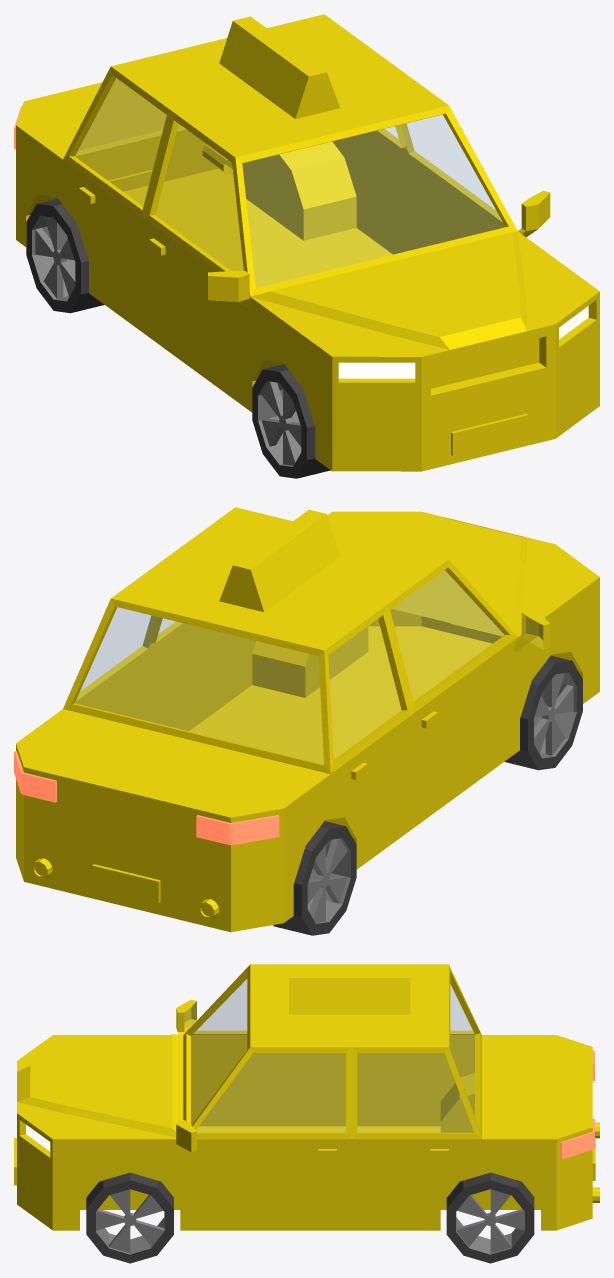
The model's file is taxi.glb.
3 renders of one model, top to bottom at view 1: azimuth 30°, elevation 25°; view 2: azimuth 150°, elevation 25°; view 3: azimuth 270°, elevation 25°, orthographic. The views are drawn at different scales.
Visible parts, largest first — view 1: Taxi, Taxi wheel front right, Taxi wheel rear right; view 2: Taxi, Taxi wheel rear right, Taxi wheel front right; view 3: Taxi, Taxi wheel rear left, Taxi wheel front left.
Part boxes in pixels (left/top/right/bottom): Taxi: left=14, top=14, right=599, bottom=471; Taxi wheel front right: left=252, top=364, right=330, bottom=478; Taxi wheel rear right: left=26, top=198, right=104, bottom=313; Taxi: left=14, top=507, right=599, bottom=932; Taxi wheel rear right: left=273, top=821, right=356, bottom=935; Taxi wheel front right: left=504, top=655, right=582, bottom=770; Taxi: left=14, top=964, right=599, bottom=1230; Taxi wheel rear left: left=446, top=1172, right=534, bottom=1263; Taxi wheel front left: left=86, top=1172, right=173, bottom=1263.
Size of the model in its own units: 2.81 by 2.32 by 5.23.
